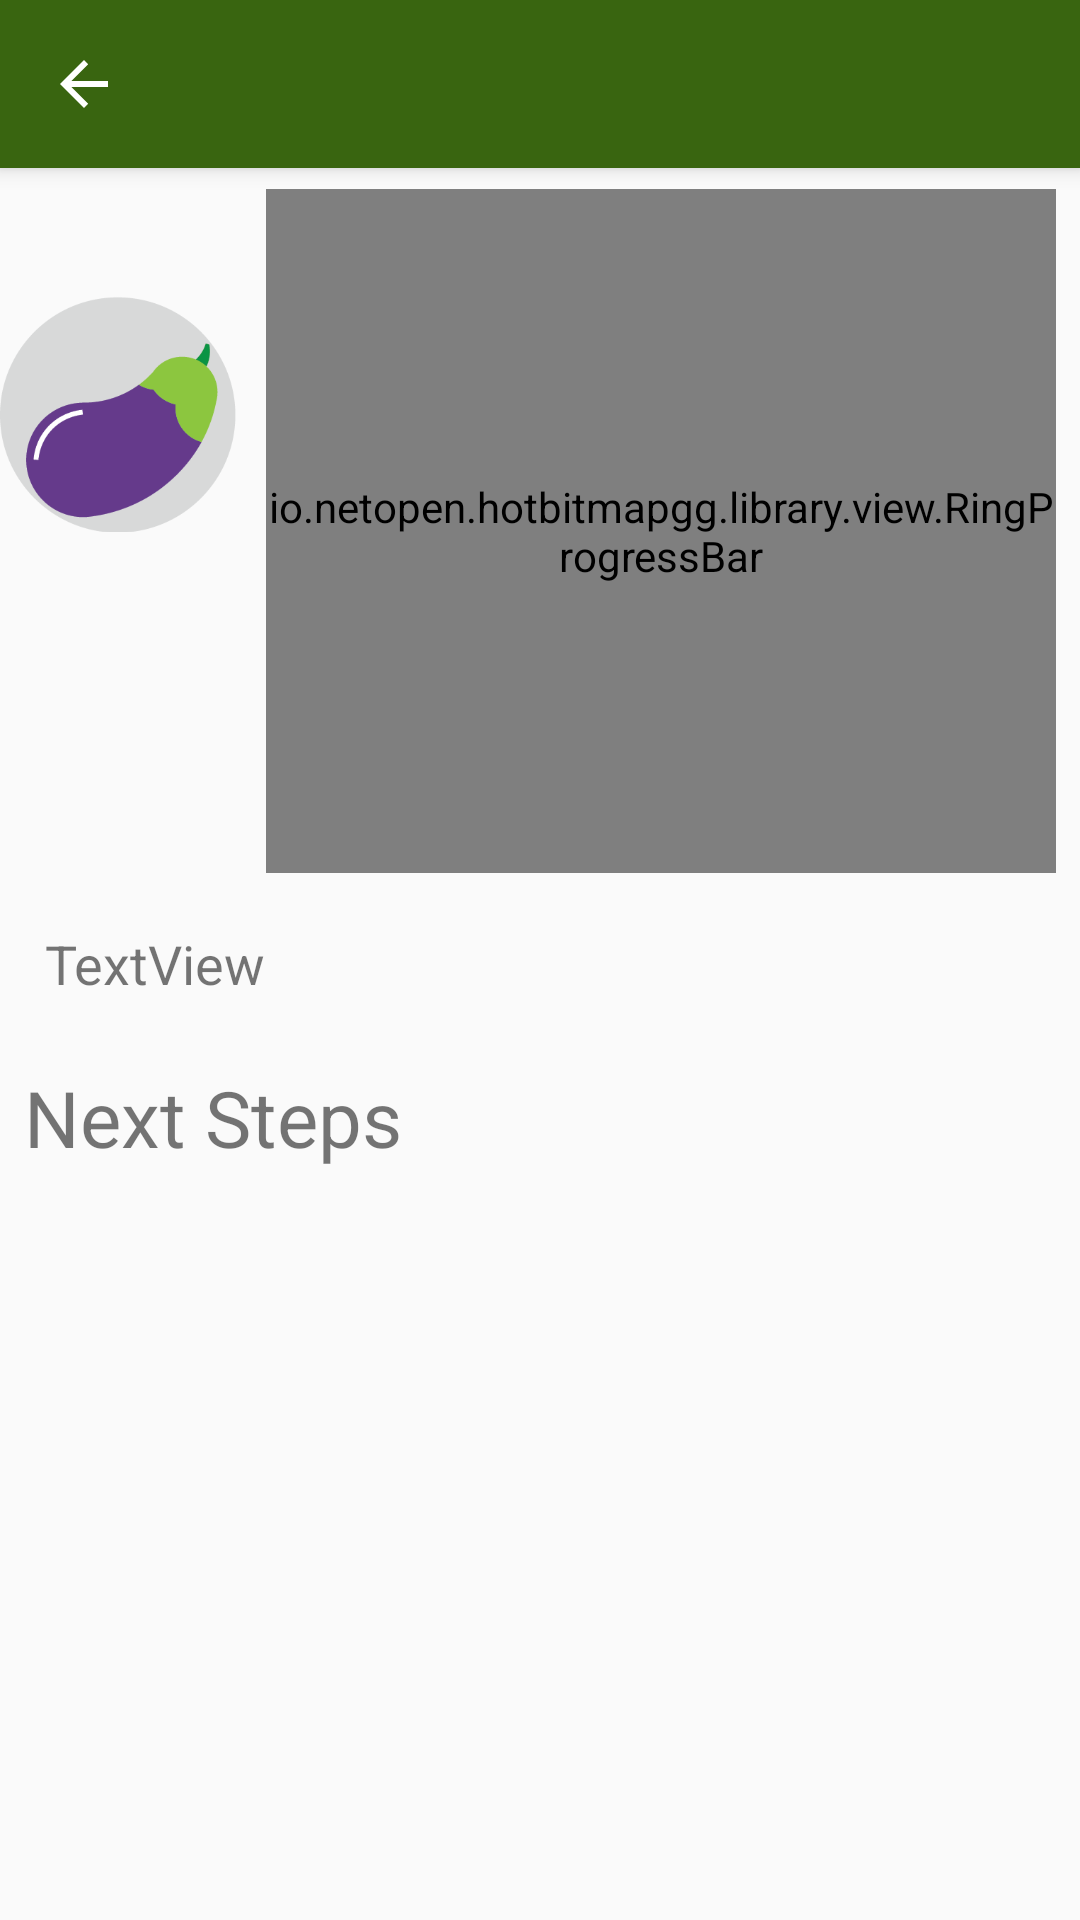

Icon click points for this 1080px x 1920px phone screenshot, format point (x, y):
eggplant: point (117, 415)
